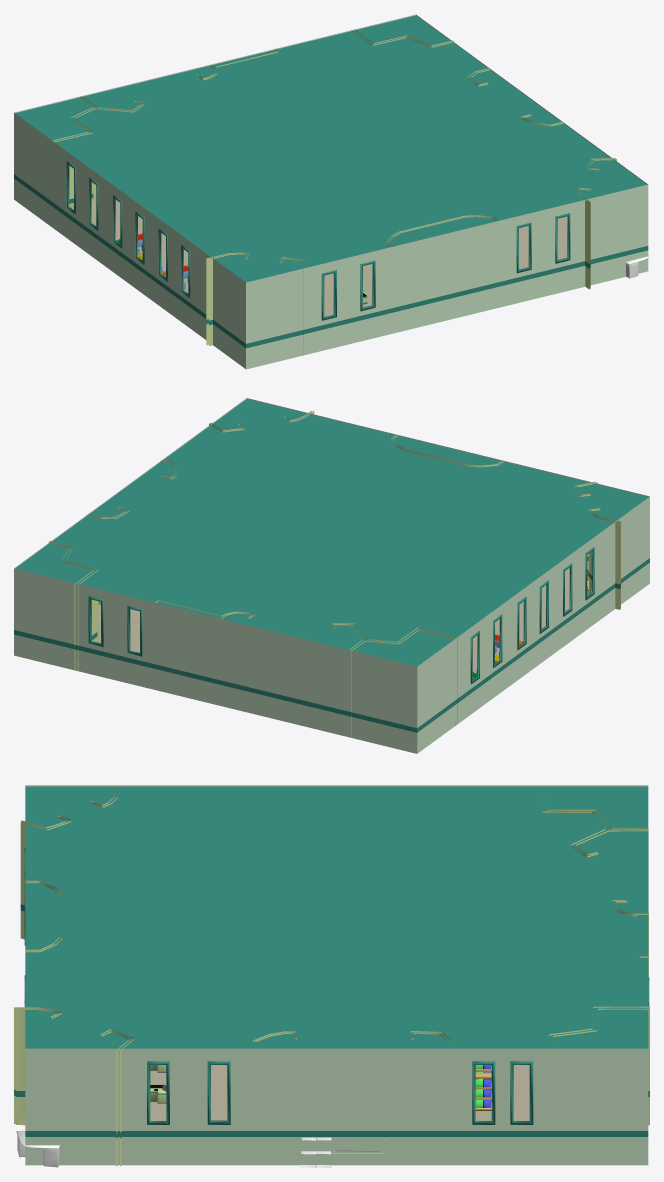
The model's file is Mayhem_Level v2.glb.
3 renders of one model, top to bottom at view 1: azimuth 30°, elevation 25°; view 2: azimuth 150°, elevation 25°; view 3: azimuth 270°, elevation 25°, orthographic. The views are drawn at different scales.
Visible parts, largest first — view 1: Level; view 2: Level; view 3: Level.
Part boxes in pixels (x1=…): Level: x1=14, y1=14, x2=649, y2=369; Level: x1=14, y1=398, x2=649, y2=753; Level: x1=14, y1=785, x2=649, y2=1167.
Bounding box in the file's own units: 84.3 × 17.08 × 84.08.
